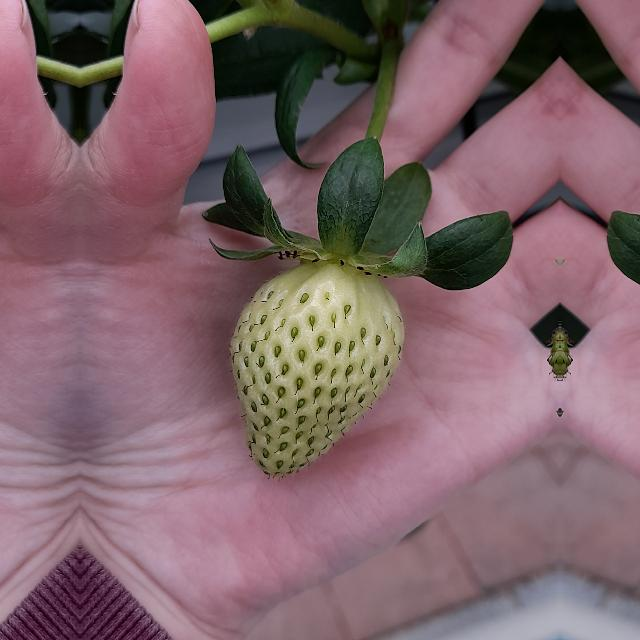Health_25: (230, 257, 404, 477)
